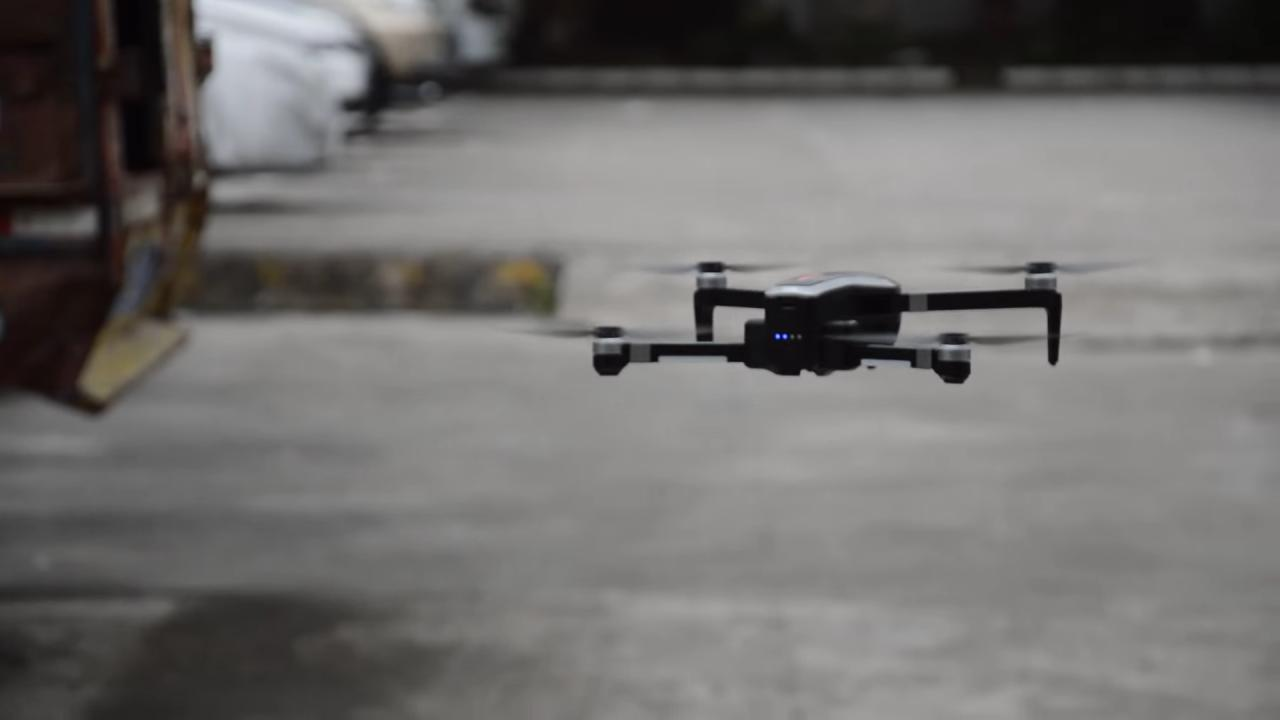Drone: (469, 245, 1166, 404)
